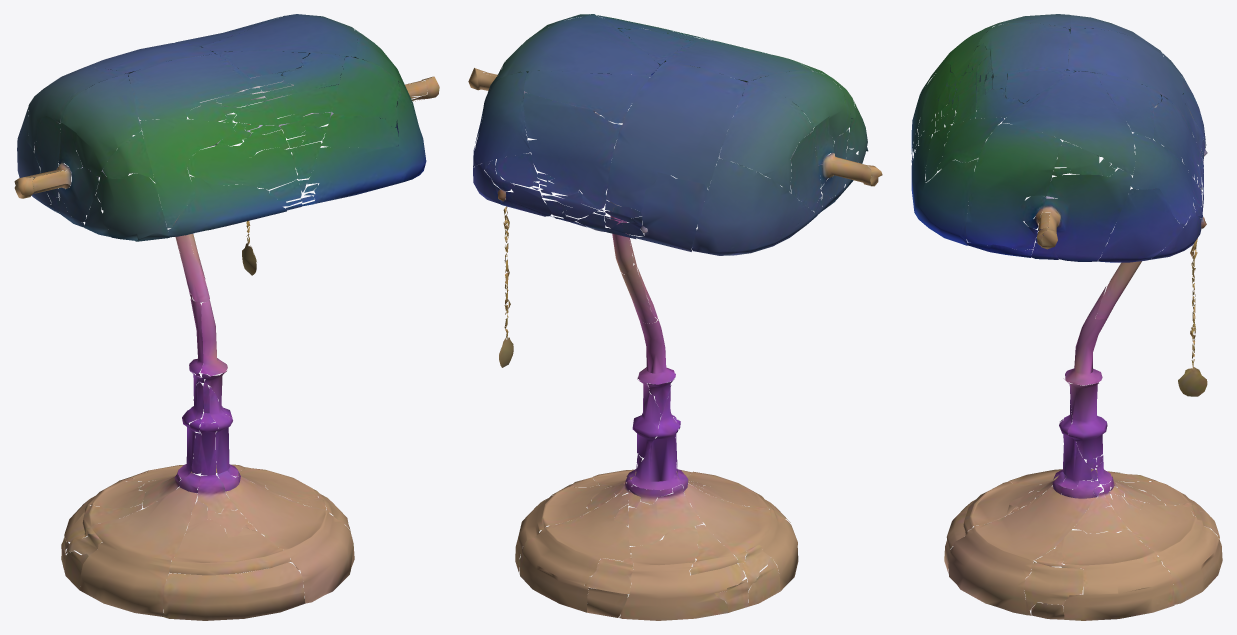
The model's file is tripo-lamp.glb.
3 views of the same model, side by side, from view 1: azimuth 30°, elevation 25°; view 2: azimuth 150°, elevation 25°; view 3: azimuth 270°, elevation 25° (orthographic). The views are drawn at different scales.
Parts seen in each view (by area): view 1: tripo_node_fa02f83d-e557-4907-8e54-5e5c9fe38ccc; view 2: tripo_node_fa02f83d-e557-4907-8e54-5e5c9fe38ccc; view 3: tripo_node_fa02f83d-e557-4907-8e54-5e5c9fe38ccc.
Boxes of the visible parts, left/top/right/bottom form: tripo_node_fa02f83d-e557-4907-8e54-5e5c9fe38ccc: left=14, top=14, right=439, bottom=620; tripo_node_fa02f83d-e557-4907-8e54-5e5c9fe38ccc: left=468, top=14, right=882, bottom=620; tripo_node_fa02f83d-e557-4907-8e54-5e5c9fe38ccc: left=911, top=14, right=1222, bottom=620.
Size of the model in its own units: 0.834 by 0.9812 by 0.5589.
Materials: 1 (1 with a texture image).
